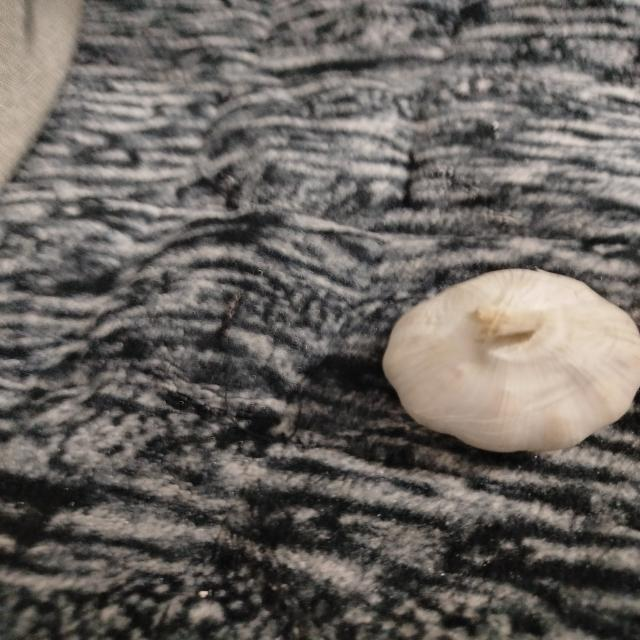garlic: (382, 267, 640, 453)
